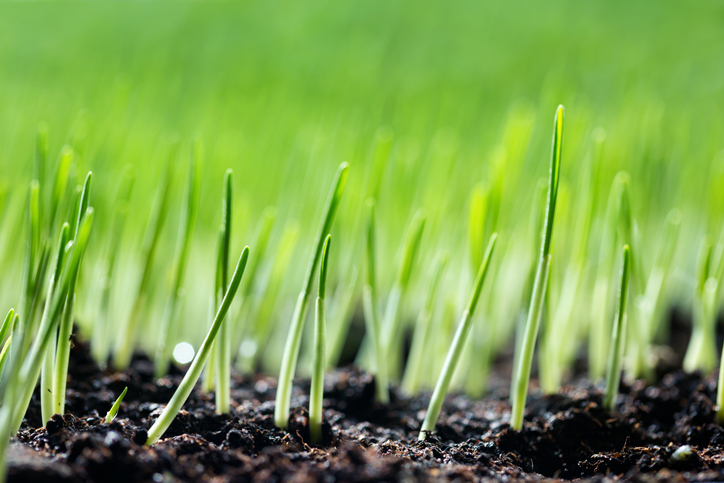grass: (1, 115, 721, 466)
